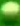white: (0, 0, 20, 26)
